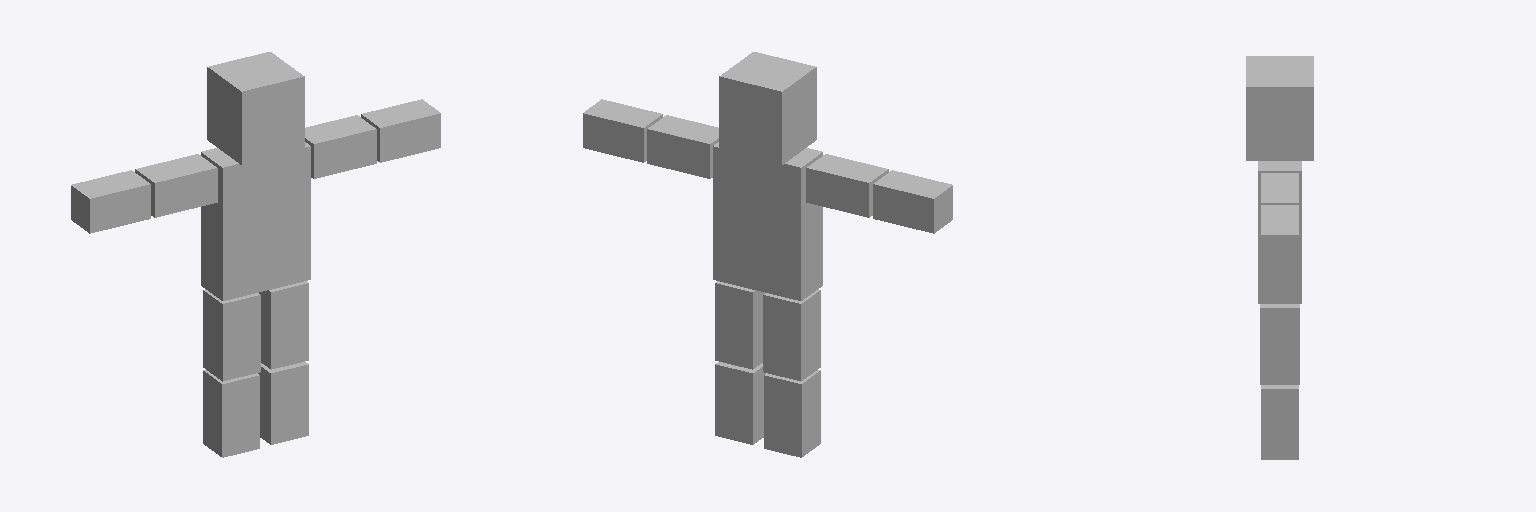
Rendered from Character_Model.obj.
3 views of the same model, side by side, from view 1: azimuth 30°, elevation 25°; view 2: azimuth 150°, elevation 25°; view 3: azimuth 270°, elevation 25° (orthographic).
Parts seen in each view (by area): view 1: Chest, Head, pCube1, pCube2, LowerRightArm, UpperLeftLeg, LowerLeftLeg, UpperRightArm, UpperLeftArm, LowerLeftArm; view 2: Chest, Head, pCube1, pCube2, LowerRightArm, UpperLeftLeg, LowerLeftLeg, UpperRightArm, UpperLeftArm, LowerLeftArm; view 3: Head, UpperLeftLeg, LowerLeftLeg, Chest, LowerLeftArm, UpperLeftArm.
Boxes of the visible parts, box(x1,y1,x2,y2) form: Chest: box(201, 142, 310, 300); Head: box(207, 52, 304, 164); pCube1: box(203, 289, 260, 381); pCube2: box(203, 370, 259, 457); LowerRightArm: box(71, 170, 150, 233); UpperLeftLeg: box(259, 281, 308, 369); LowerLeftLeg: box(258, 362, 308, 444); UpperRightArm: box(135, 154, 217, 217); UpperLeftArm: box(305, 115, 376, 178); LowerLeftArm: box(361, 99, 440, 162); Chest: box(713, 142, 822, 300); Head: box(719, 52, 816, 164); pCube1: box(763, 289, 820, 381); pCube2: box(764, 370, 820, 457); LowerRightArm: box(873, 170, 952, 233); UpperLeftLeg: box(715, 281, 764, 369); LowerLeftLeg: box(715, 362, 765, 444); UpperRightArm: box(806, 154, 888, 217); UpperLeftArm: box(647, 115, 718, 178); LowerLeftArm: box(583, 99, 662, 162); Head: box(1246, 56, 1313, 160); UpperLeftLeg: box(1260, 304, 1299, 384); LowerLeftLeg: box(1261, 385, 1298, 459); Chest: box(1258, 161, 1301, 303); LowerLeftArm: box(1261, 205, 1298, 269); UpperLeftArm: box(1261, 173, 1298, 204).
Bounding box in the file's own units: 3.8 × 3.81 × 0.64.